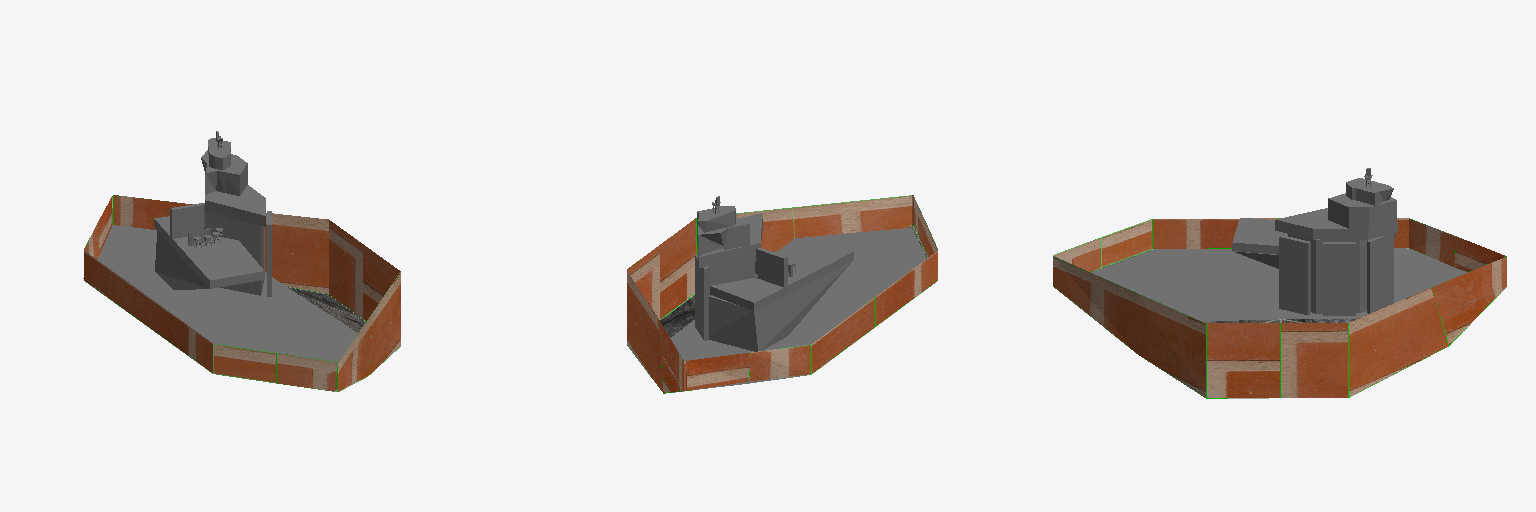
The picture shows the model from 3 angles: view 1: azimuth 30°, elevation 25°; view 2: azimuth 150°, elevation 25°; view 3: azimuth 270°, elevation 25°; orthographic projection.
Parts seen in each view (by area): view 1: Plane001, Plane006, Box001; view 2: Plane001, Box001, Plane006; view 3: Plane001, Box001, Plane006.
Part boxes in pixels (left/top/right/bottom): Plane001: left=84, top=195, right=400, bottom=391; Plane006: left=83, top=225, right=357, bottom=371; Box001: left=154, top=138, right=271, bottom=296; Plane001: left=627, top=195, right=937, bottom=393; Box001: left=695, top=206, right=853, bottom=351; Plane006: left=663, top=228, right=935, bottom=389; Plane001: left=1053, top=218, right=1506, bottom=398; Box001: left=1232, top=178, right=1397, bottom=315; Plane006: left=1091, top=248, right=1502, bottom=320.
Bounding box in the file's own units: 70.26 × 55.99 × 128.
62 materials, 1 textured.